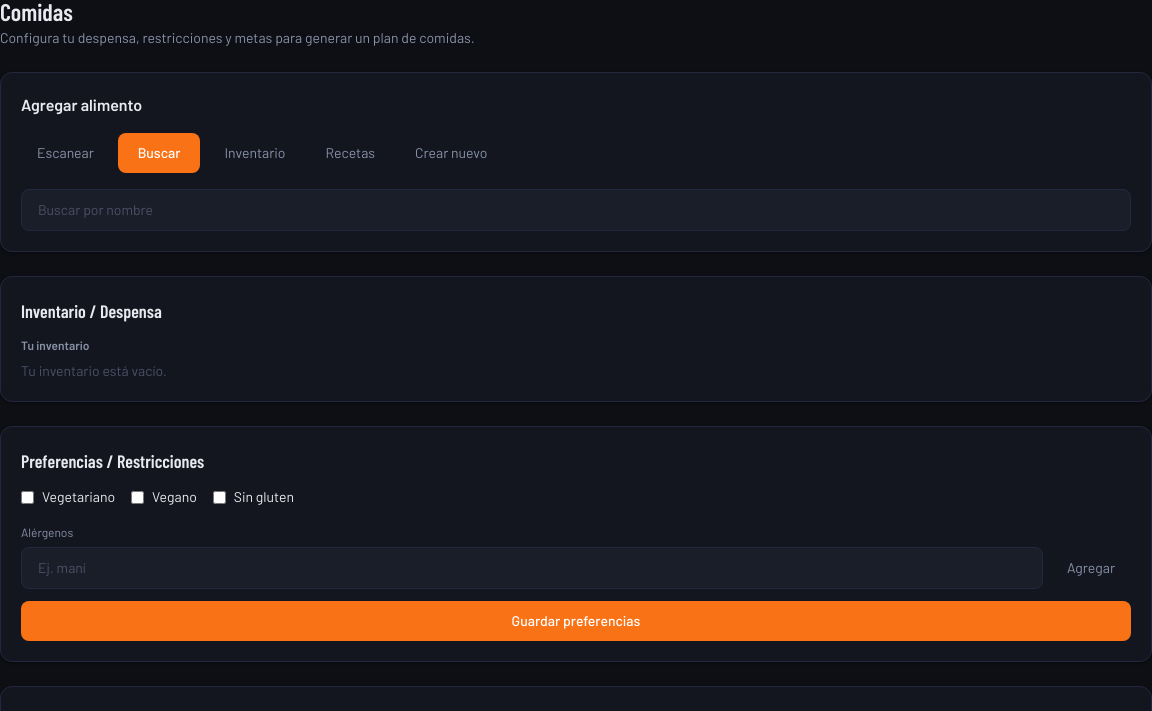
Test: MealsPage search → confirmation wiring (Req 7.3) › routes a catalog search result into the Food confirmation step
Type "avena" into the field with placeholder "Buscar por nombre".
click(576, 210); type("avena")  # box [21,189,1131,231]
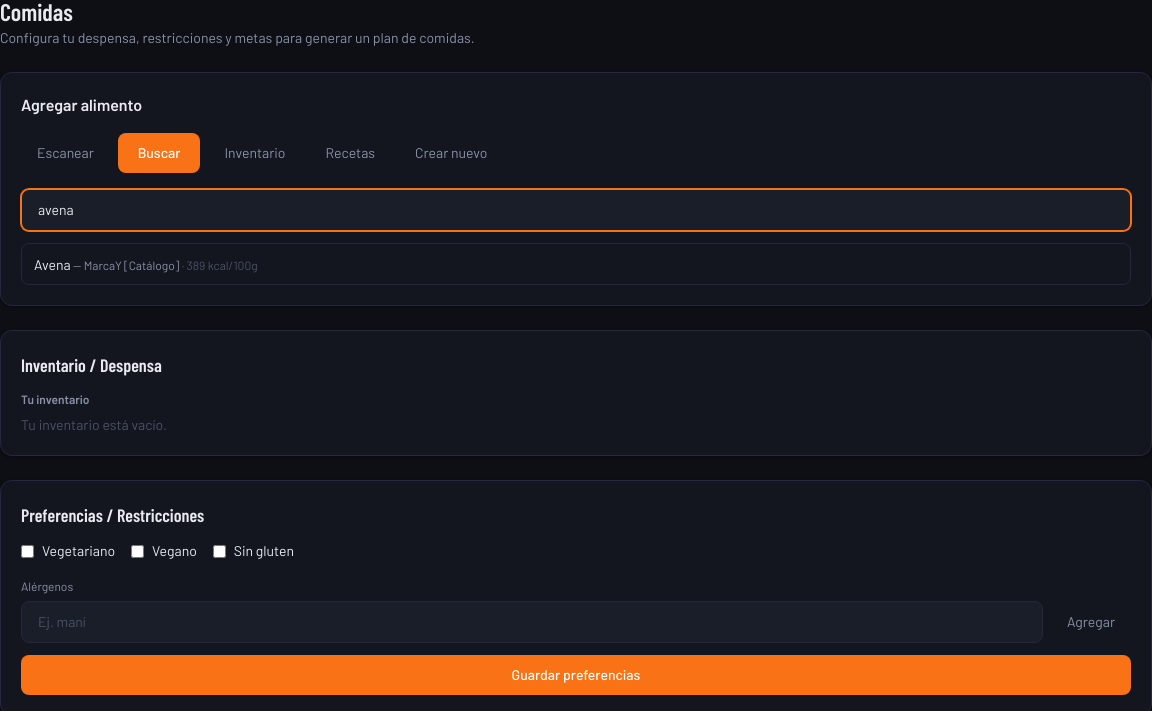
Click the text "Avena".
click(52, 264)  # box [34,256,71,273]
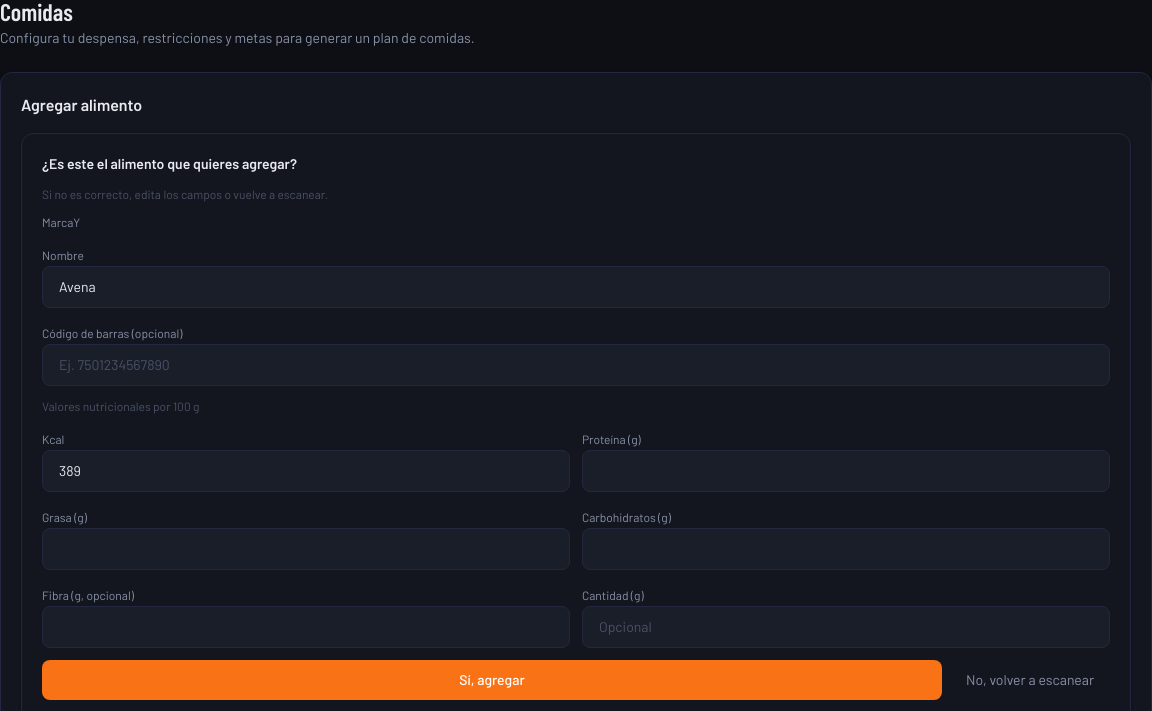
Now the field showing "Avena" is shown, box [42,266,1110,308]
Now the heading "¿Es este el alimento que quieres agregar?" is shown, box [42,155,297,172]
Now the button "Sí, agregar" is shown, box [42,660,942,700]
